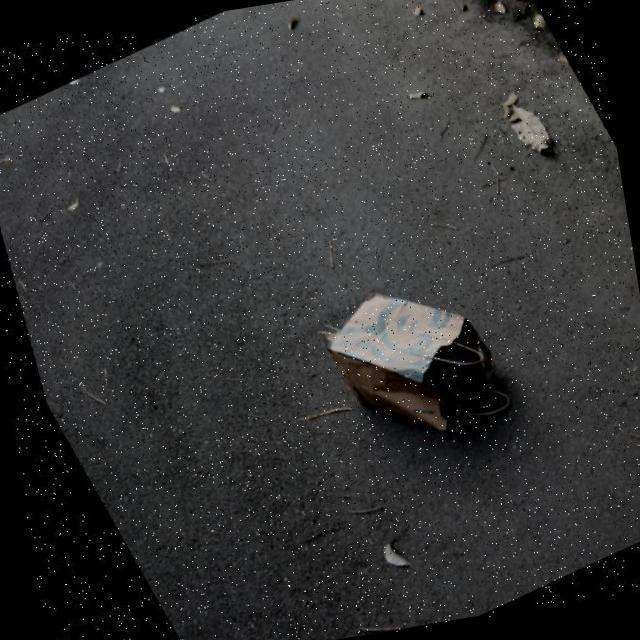Paper_Bag: (294, 253, 518, 472)
